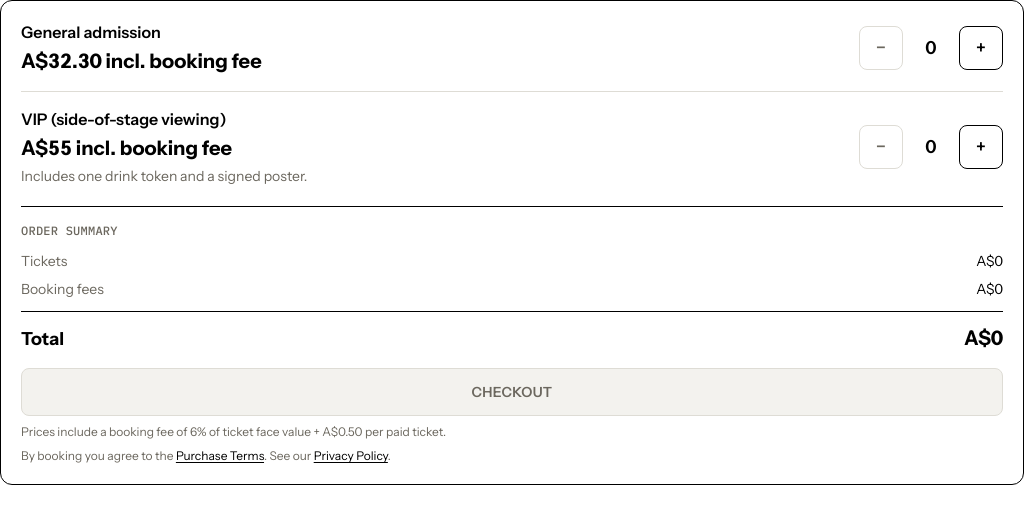
Scenario: TicketSelector (live) › offers a 48px (btn-lg) Checkout, enabled once a ticket is chosen
Expected: the button "Checkout" is disabled, x1=21 y1=368 x2=1003 y2=416
Click the button named "Increase quantity for General admission": {"x": 981, "y": 48} x1=959 y1=26 x2=1003 y2=70
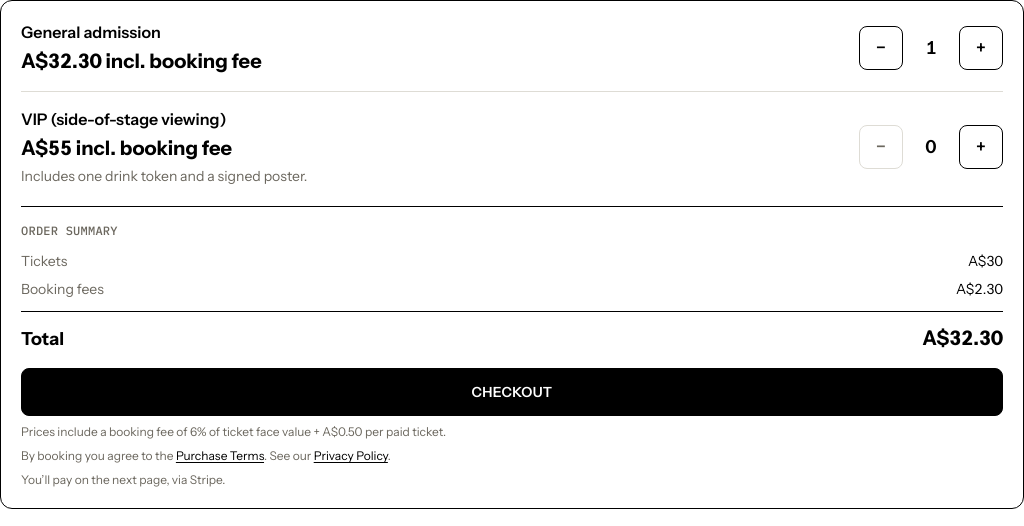
Result: the button "Checkout" is enabled at x1=21 y1=368 x2=1003 y2=416
